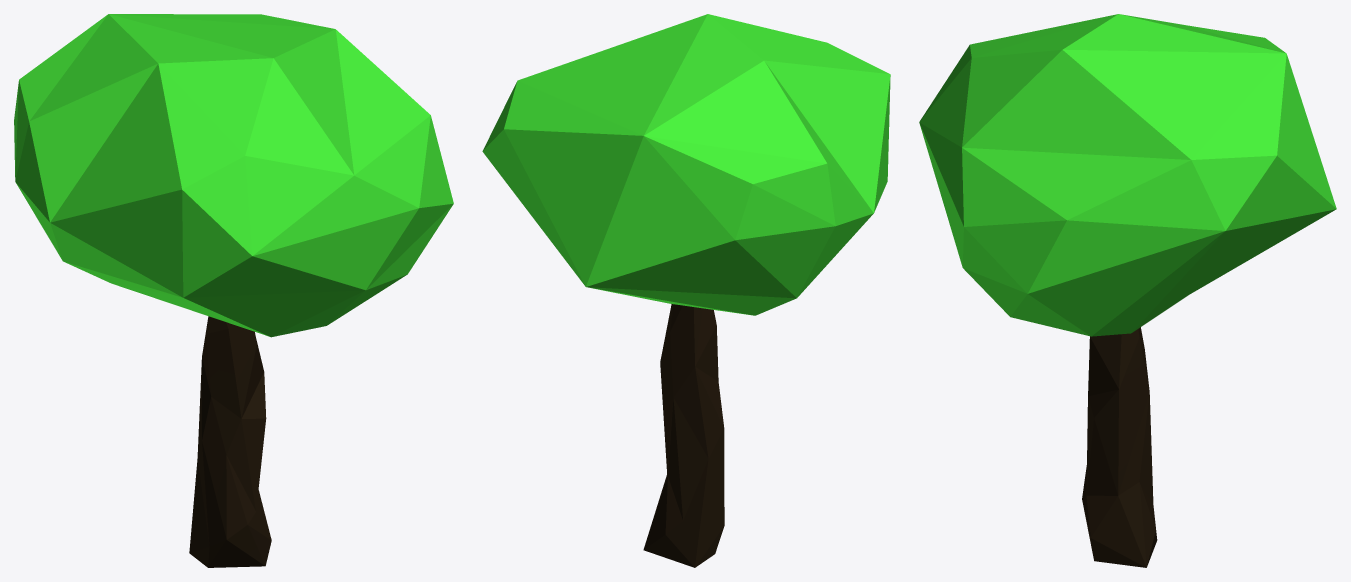
The model's file is TREE_01.fbx.
3 renders of one model, left to right at view 1: azimuth 30°, elevation 25°; view 2: azimuth 150°, elevation 25°; view 3: azimuth 270°, elevation 25°, orthographic. The views are drawn at different scales.
Visible parts, largest first — view 1: Box016; view 2: Box016; view 3: Box016.
Boxes of the visible parts, x1,y1,x2,y2 form: Box016: (14, 14, 453, 567); Box016: (482, 14, 890, 567); Box016: (919, 14, 1336, 567).
Size of the model in its own units: 0.7825 by 1.09 by 0.811.
